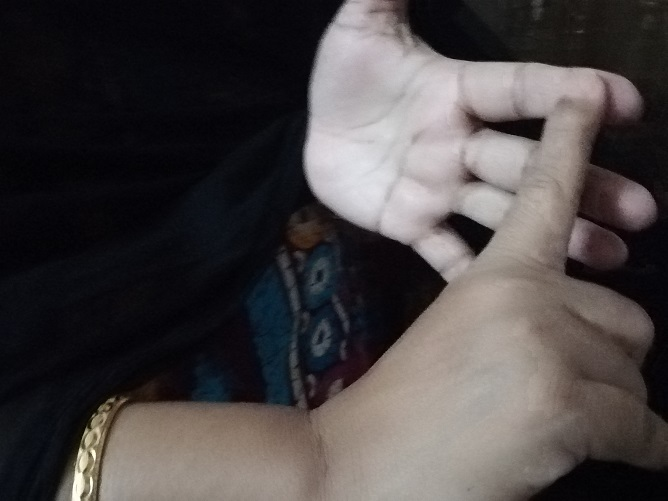o: (316, 3, 652, 446)
